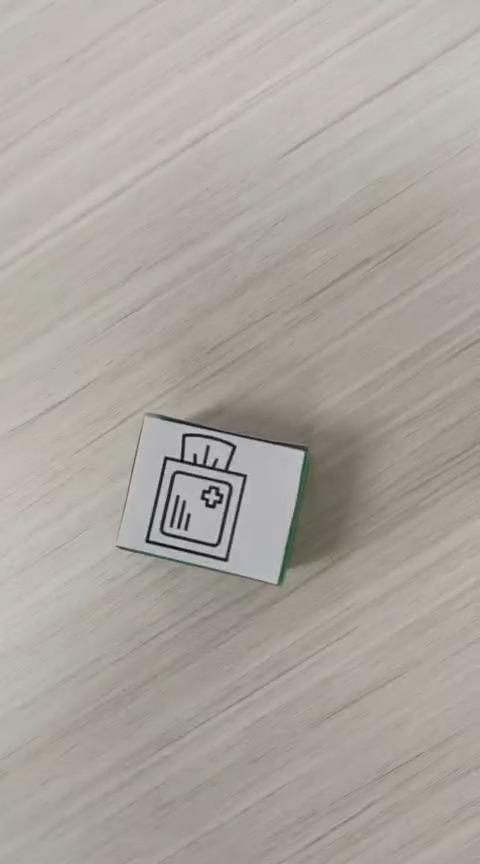Gauze: (114, 411, 310, 587)
